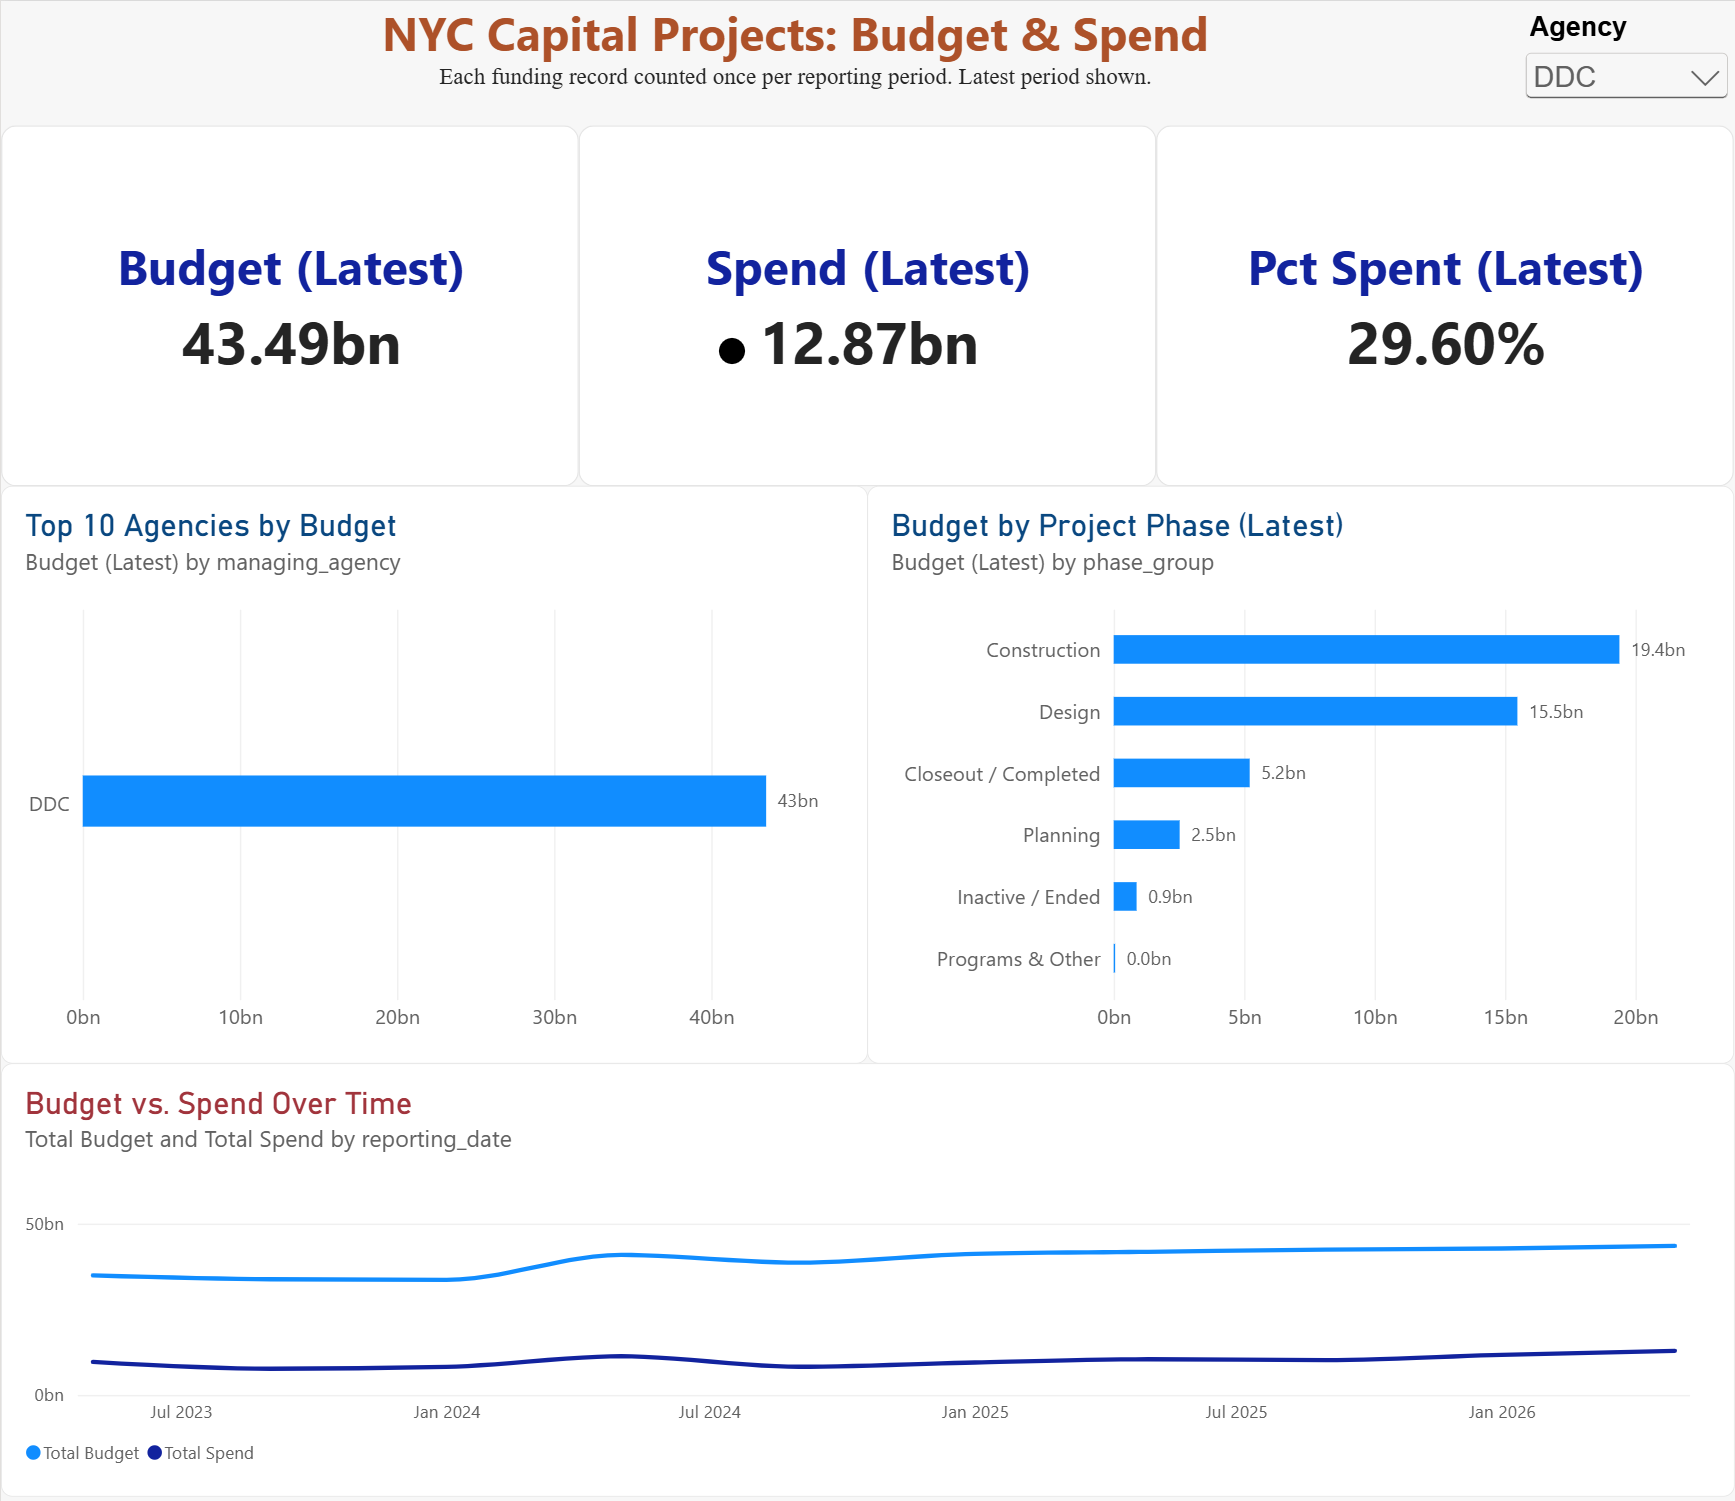

The page's visual inventory and layout, read from the dashboard file:
{"tool":"powerbi","page":{"name":"Page 1","canvas":[1920,1080],"ordinal":0},"visuals":[{"type":"cardVisual","fields":{"Data":["v_dashboard.Budget (Latest)"]},"box":[0,86,400,250],"z":0},{"type":"cardVisual","fields":{"Data":["v_dashboard.Spend (Latest)"]},"box":[399.7,86,400,250],"z":1},{"type":"cardVisual","fields":{"Data":["v_dashboard.Pct Spent (Latest)"]},"box":[799.4,86,400,250],"z":2},{"type":"clusteredBarChart","title":"Top 10 Agencies by Budget","fields":{"Category":["v_dashboard.managing_agency"],"Y":["v_dashboard.Budget (Latest)"]},"box":[0,335.5,600,400],"z":3},{"type":"clusteredBarChart","title":"Budget by Project Phase (Latest)","fields":{"Category":["v_dashboard.phase_group"],"Y":["v_dashboard.Budget (Latest)"]},"box":[599.6,335.5,600,400],"z":4},{"type":"lineChart","title":"Budget vs. Spend Over Time","fields":{"Category":["v_dashboard.reporting_date"],"Y":["v_dashboard.Total Budget","v_dashboard.Total Spend"]},"box":[0,735.2,1200,300],"z":5},{"type":"slicer","fields":{"Values":["v_dashboard.managing_agency"]},"box":[1050.2,7.3,150,60],"z":6},{"type":"textbox","box":[186.5,0,726.7,67.8],"z":7}]}

Visuals, with their boxes on the page's 1920x1080 design canvas (x1, y1, x2, y2). These are canvas units, not pixel positions in the 1735x1501 screenshot, which may show the page scaled, cropped or inside an application window:
cardVisual - v_dashboard.Budget (Latest): Rect(0, 86, 400, 336)
cardVisual - v_dashboard.Spend (Latest): Rect(400, 86, 800, 336)
cardVisual - v_dashboard.Pct Spent (Latest): Rect(799, 86, 1199, 336)
"Top 10 Agencies by Budget" clusteredBarChart: Rect(0, 336, 600, 736)
"Budget by Project Phase (Latest)" clusteredBarChart: Rect(600, 336, 1200, 736)
"Budget vs. Spend Over Time" lineChart: Rect(0, 735, 1200, 1035)
slicer - v_dashboard.managing_agency: Rect(1050, 7, 1200, 67)
textbox: Rect(186, 0, 913, 68)
